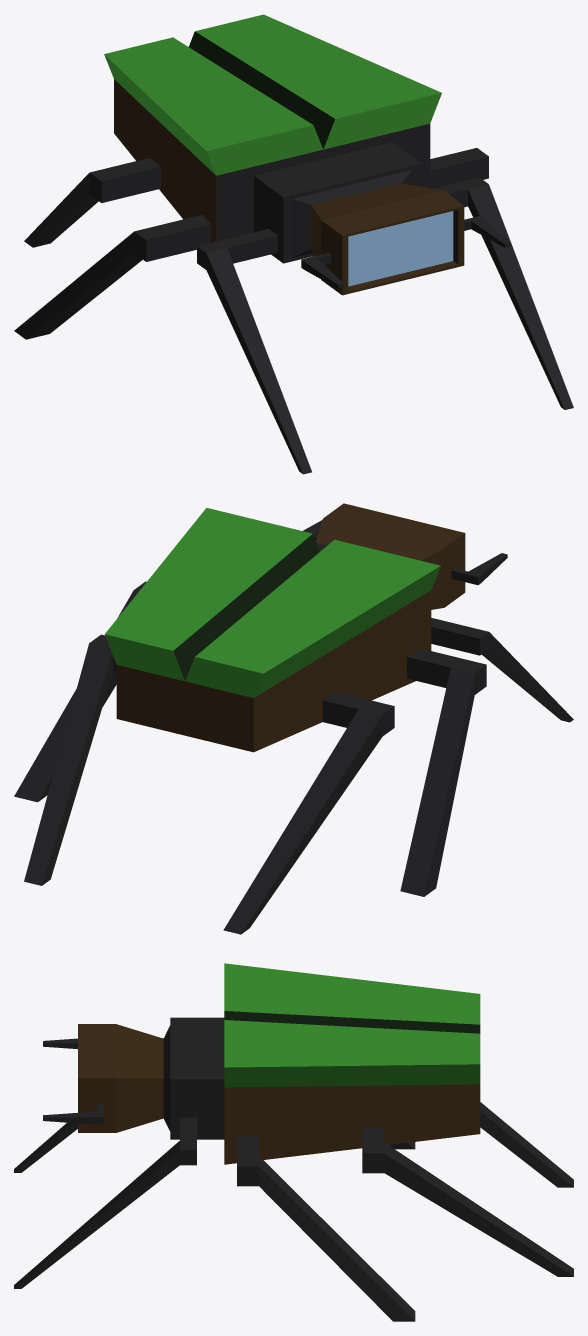
File: EG_LigthEmisor.fbx
The picture shows the model from 3 angles, top to bottom: view 1: azimuth 30°, elevation 25°; view 2: azimuth 150°, elevation 25°; view 3: azimuth 270°, elevation 25°; orthographic projection. The views are drawn at different scales.
Parts seen in each view (by area): view 1: Cube.017; view 2: Cube.017; view 3: Cube.017.
Boxes of the visible parts, x1,y1,x2,y2 form: Cube.017: (14,14,573,474); Cube.017: (14,503,573,934); Cube.017: (14,963,573,1321).
Size of the model in its own units: 140 by 76.66 by 181.
